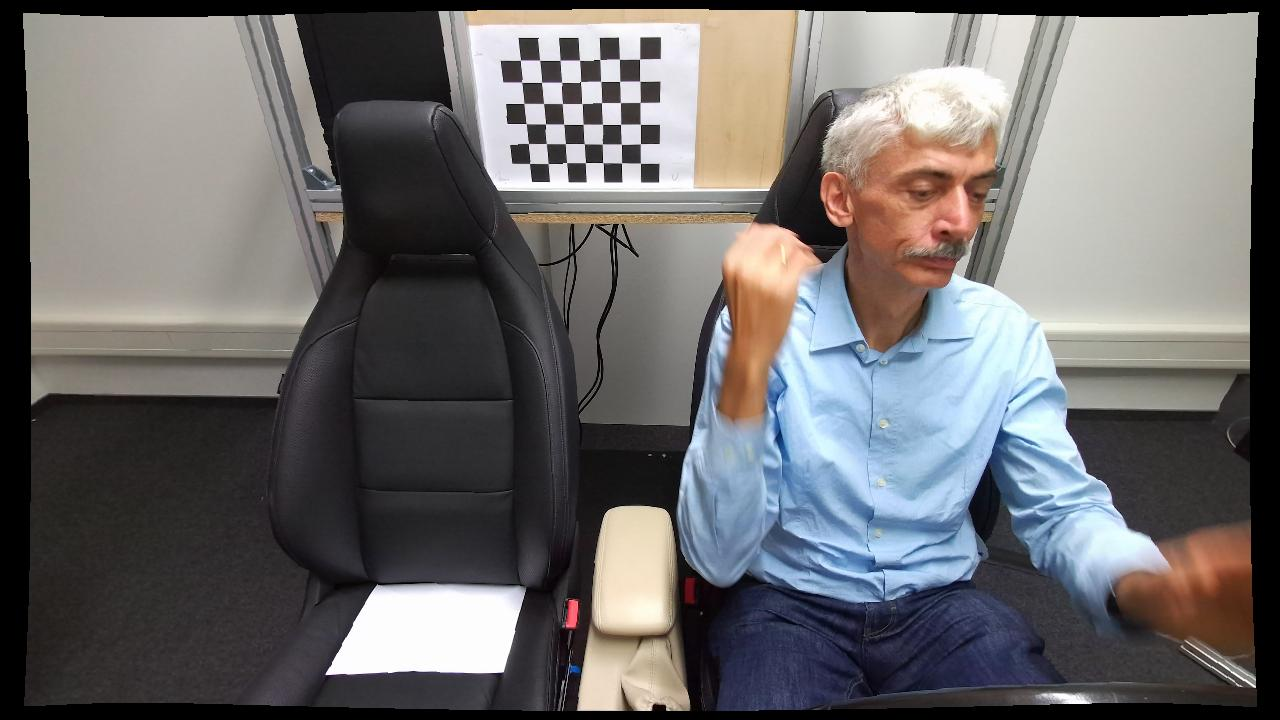Distracted: (670, 67, 1255, 715)
